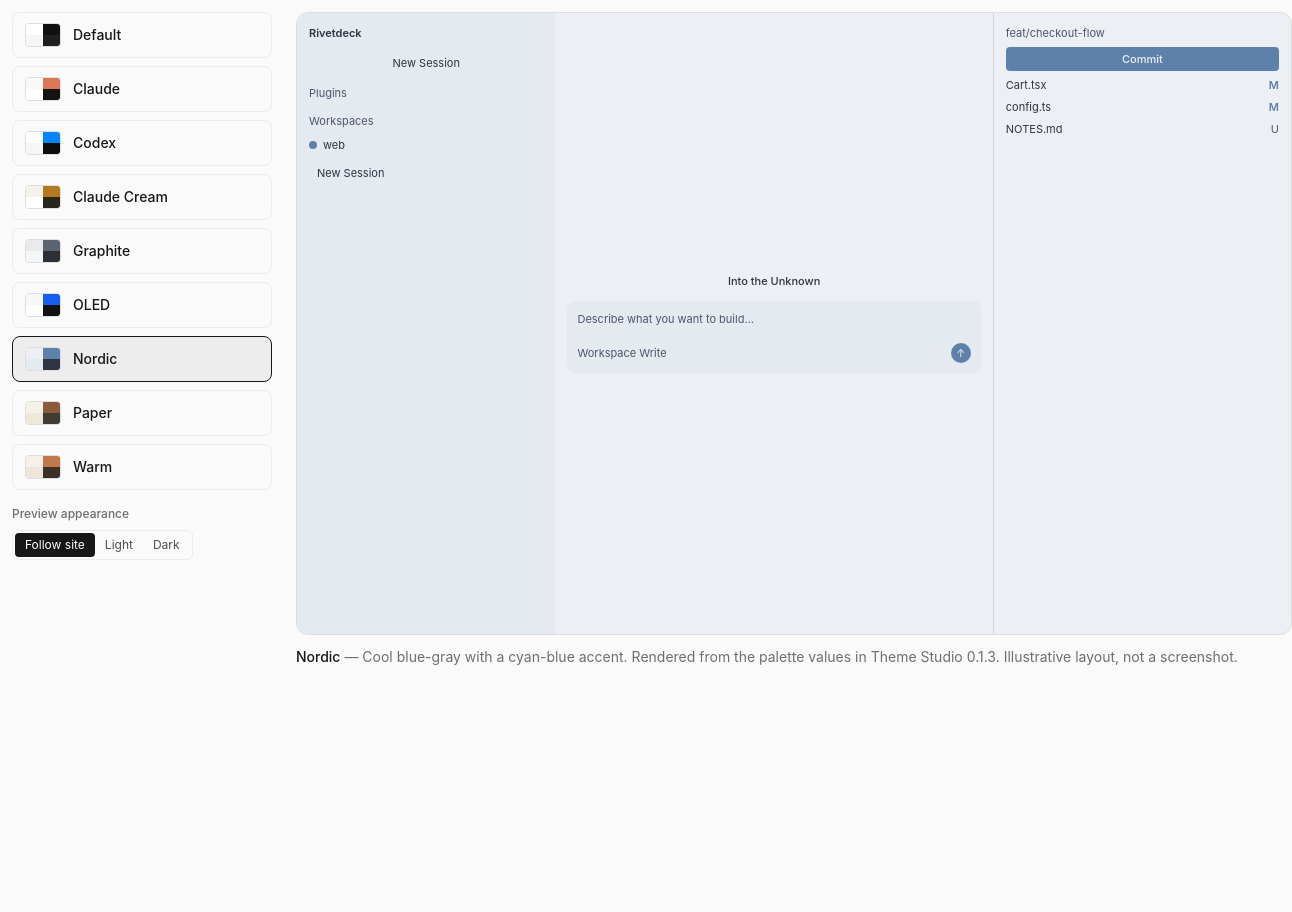
ThemePreview › selects a palette and describes it
The width and height of the screenshot is (1292, 912).
Click the button "Paper" at {"x": 43, "y": 413}, box [12,390,272,436]
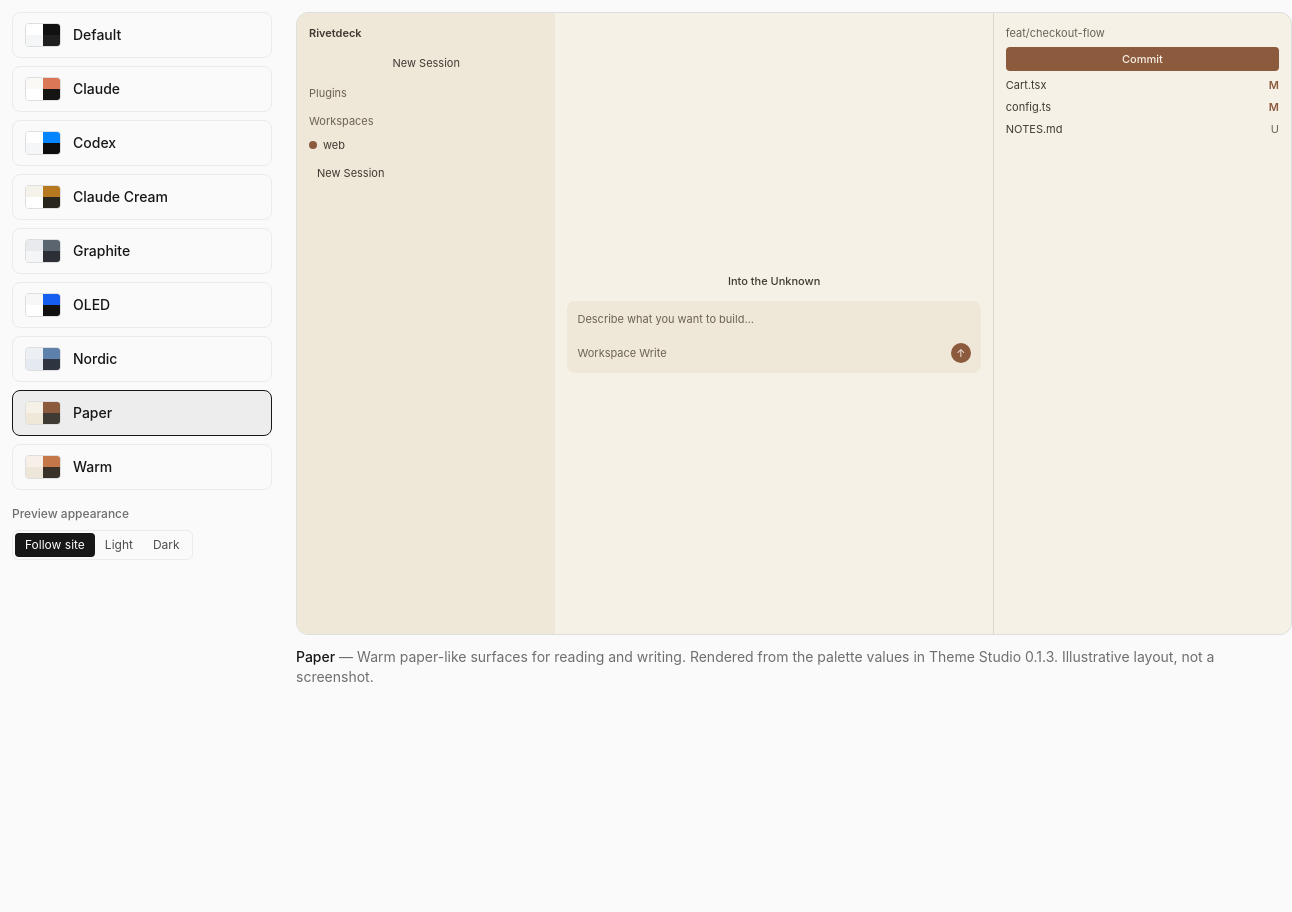
Result: the text "Warm paper-like surfaces" is shown at [357,648,686,664]
